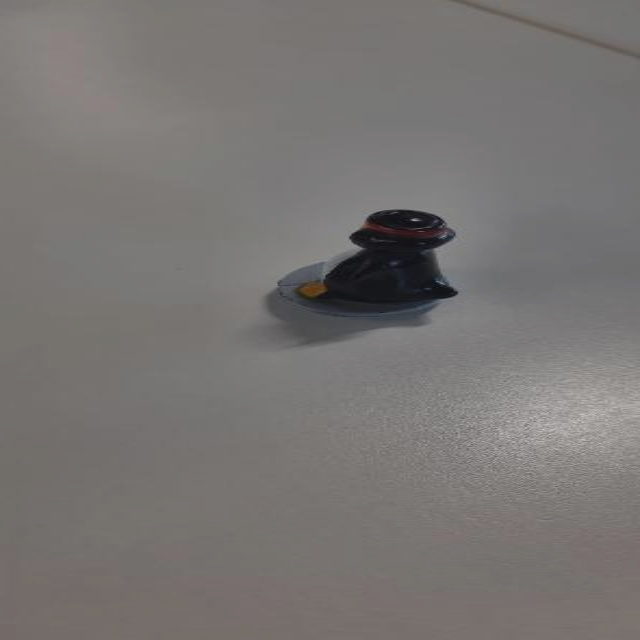Penguin: (264, 200, 474, 332)
